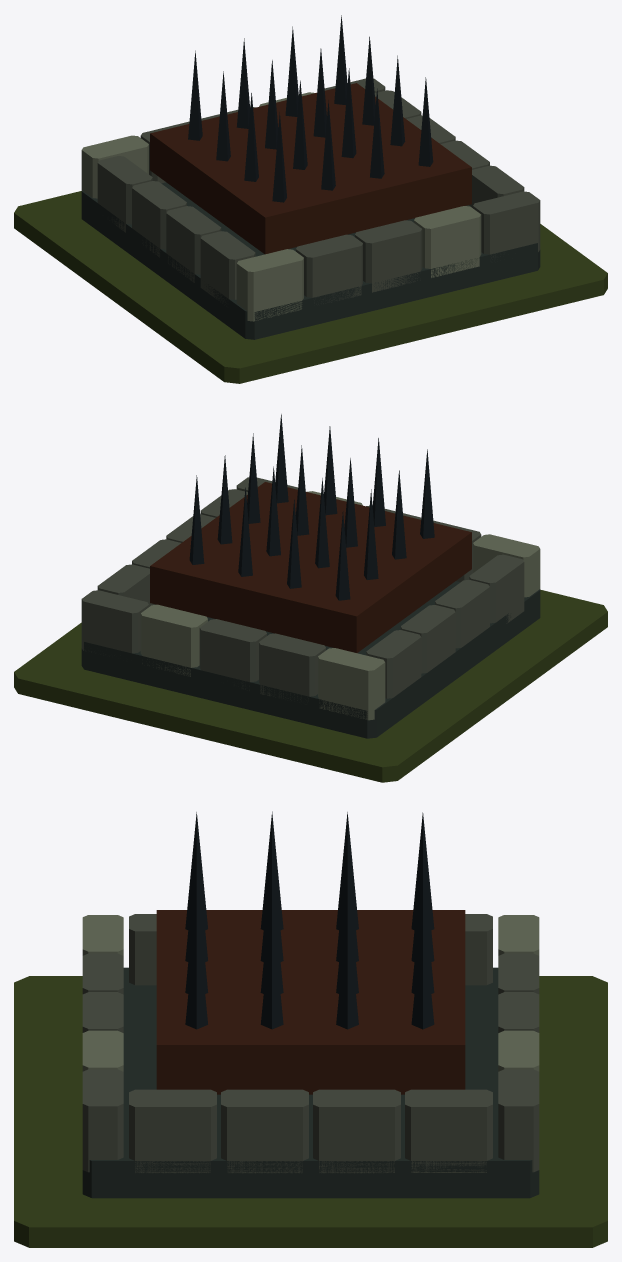
Rendered from trap_t1.glb.
3 views of the same model, one above another, from view 1: azimuth 30°, elevation 25°; view 2: azimuth 150°, elevation 25°; view 3: azimuth 270°, elevation 25° (orthographic). The views are drawn at different scales.
Parts seen in each view (by area): view 1: MMR | trap | T01 Architecture.001, MMR | trap | Tier 01 Ground.001; view 2: MMR | trap | T01 Architecture.001, MMR | trap | Tier 01 Ground.001; view 3: MMR | trap | T01 Architecture.001, MMR | trap | Tier 01 Ground.001.
Part boxes in pixels (<box>): MMR | trap | T01 Architecture.001: <box>81,15,540,339</box>; MMR | trap | Tier 01 Ground.001: <box>14,191,607,383</box>; MMR | trap | T01 Architecture.001: <box>81,414,540,738</box>; MMR | trap | Tier 01 Ground.001: <box>14,589,607,782</box>; MMR | trap | T01 Architecture.001: <box>82,811,539,1198</box>; MMR | trap | Tier 01 Ground.001: <box>14,976,607,1247</box>.
Size of the model in its own units: 1.3 by 0.635 by 1.3.
Materials: 1 (1 with a texture image).
